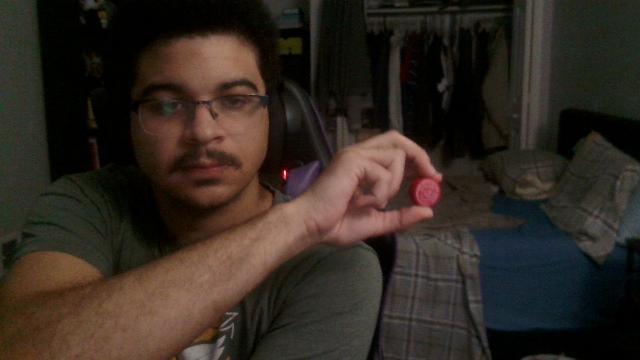cap: (410, 176, 440, 208)
